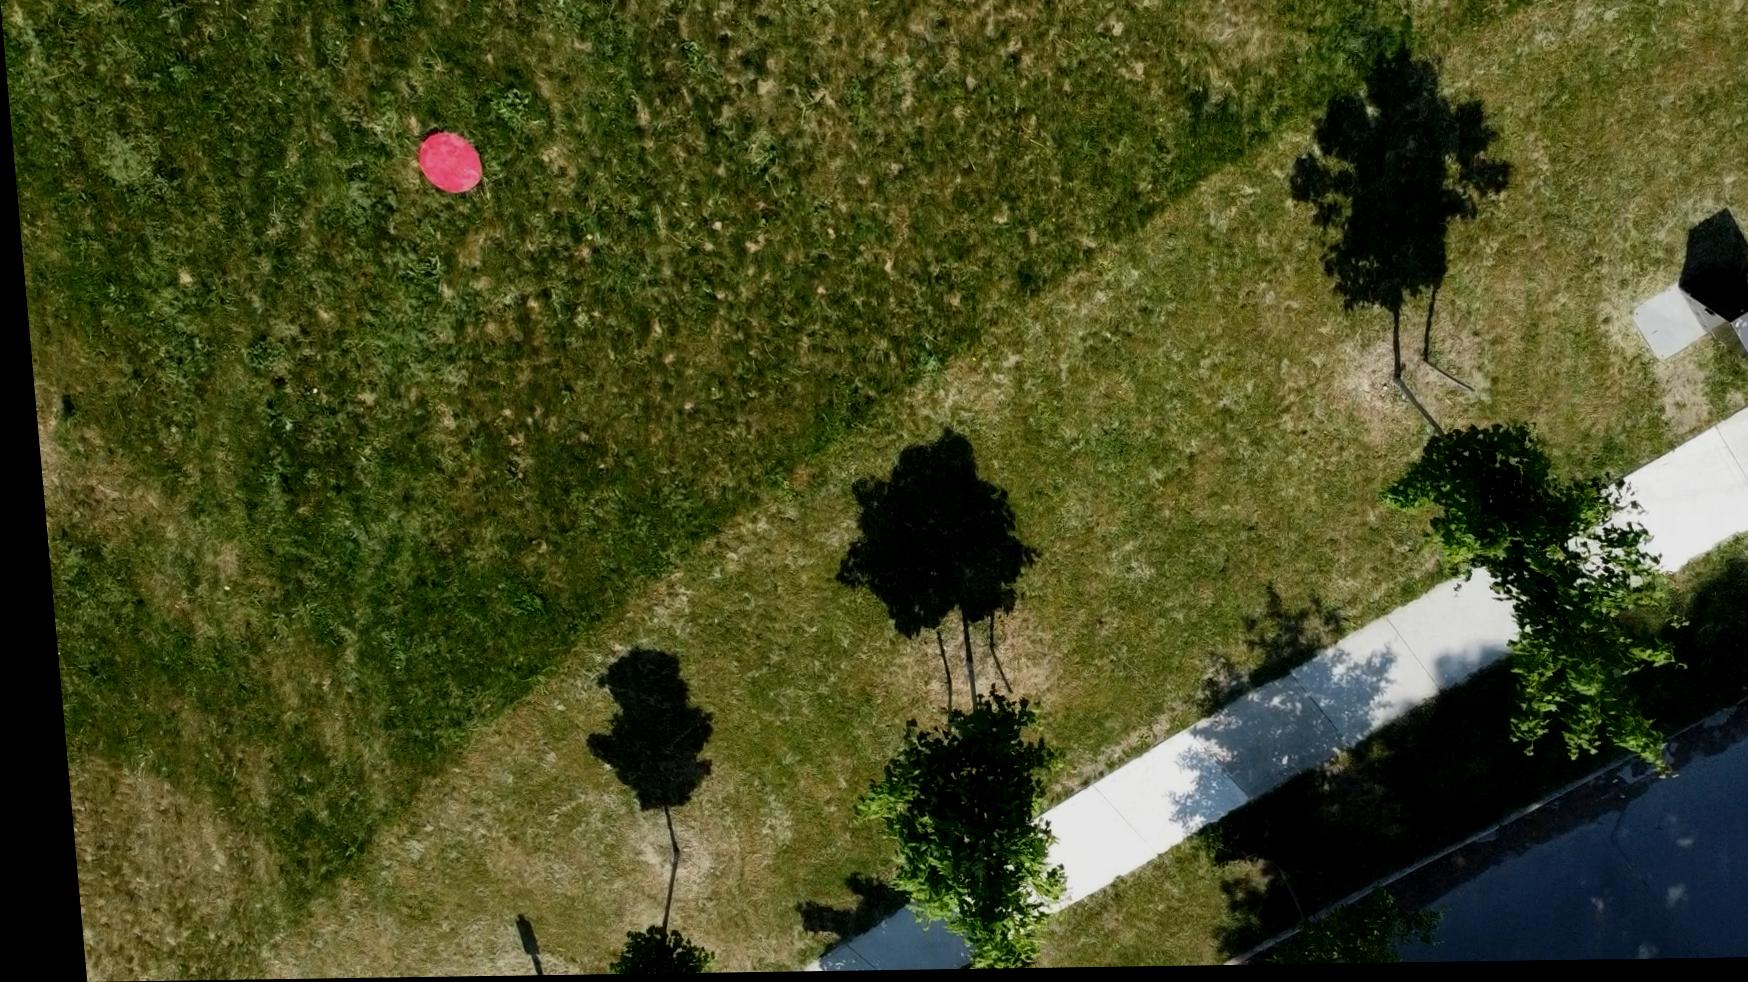Red: (411, 127, 484, 197)
